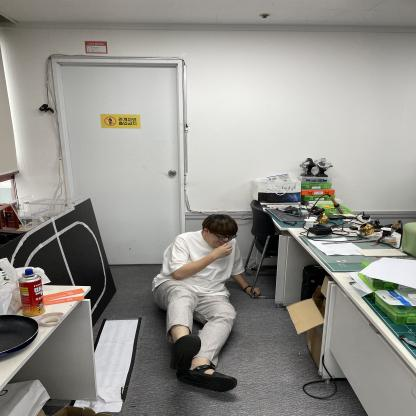fall: (158, 213, 254, 392)
